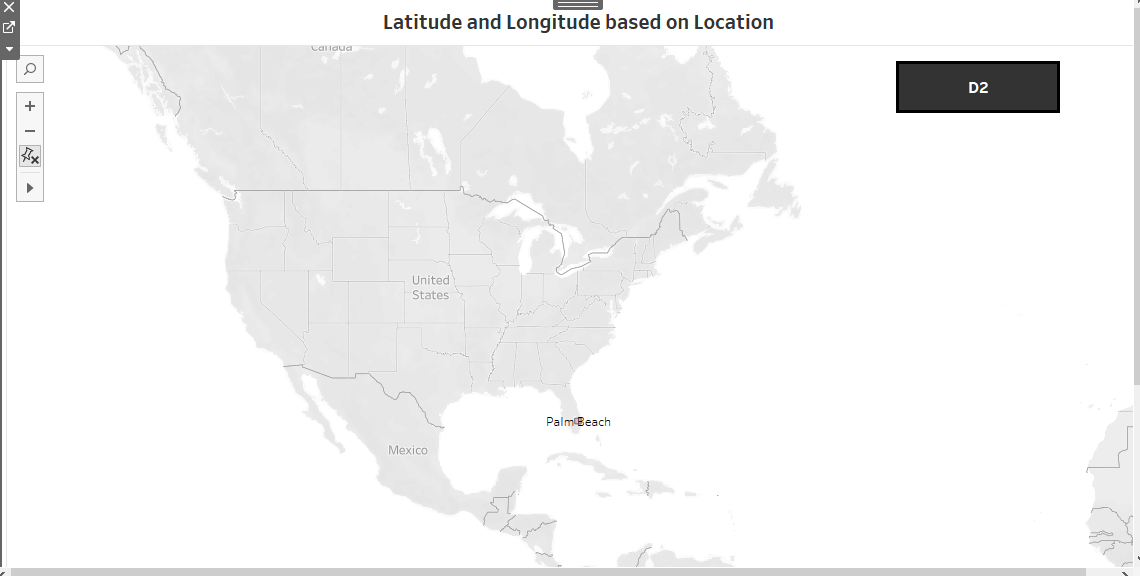

The dashboard page shown, as its layout file describes it:
{"tool":"tableau","page":{"name":"Dashboard 1","canvas":[1169,827],"ordinal":0},"visuals":[{"type":"worksheet","title":"Sheet 1","mark":"Multipolygon","box":[8,8,1153,811]}]}

Visuals, with their boxes on the page's 1169x827 design canvas (x1, y1, x2, y2). These are canvas units, not pixel positions in the 1140x576 screenshot, which may show the page scaled, cropped or inside an application window:
"Sheet 1" worksheet (Multipolygon marks): locate(8, 8, 1161, 819)
